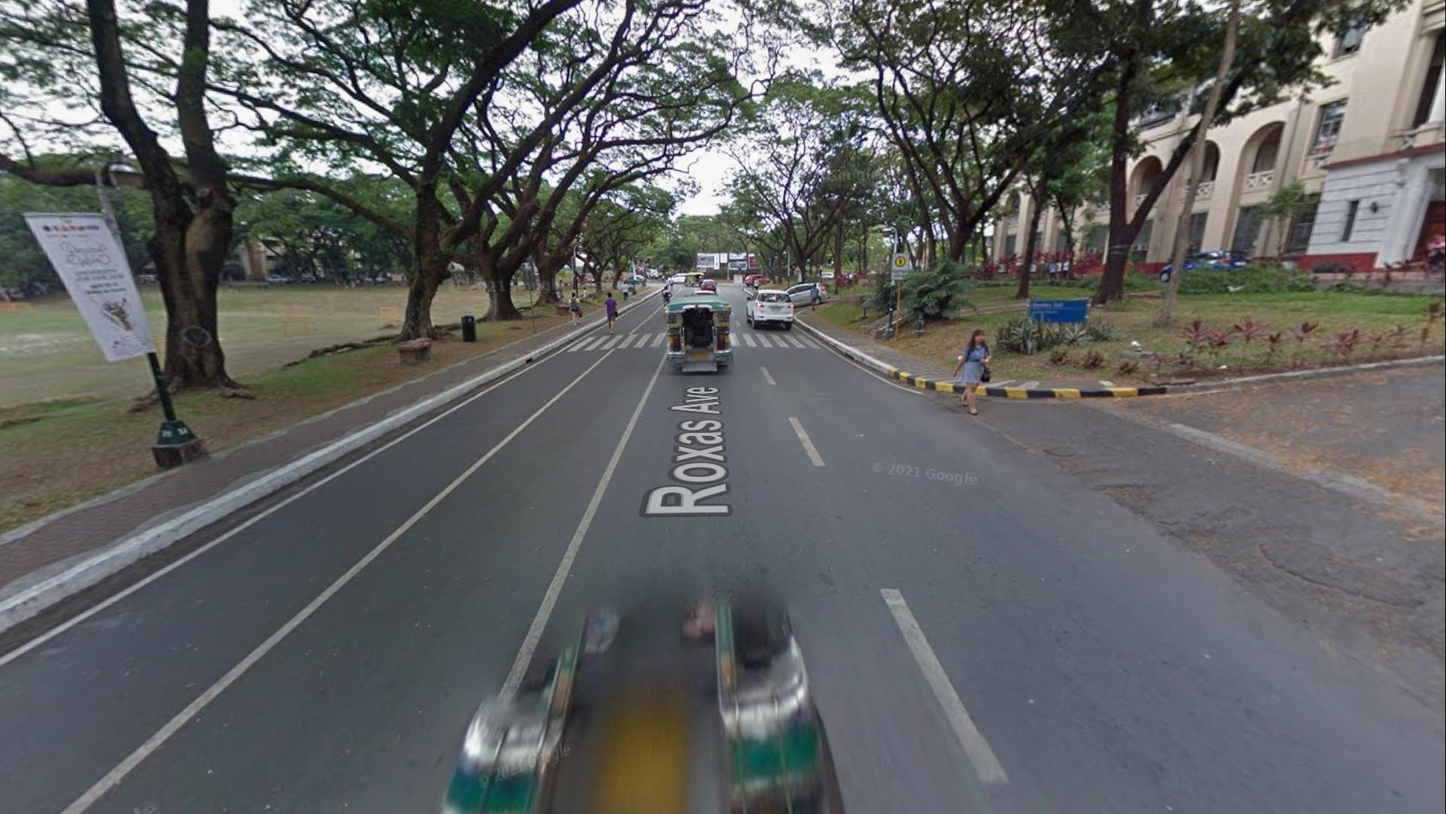pedestrian: (952, 328, 993, 416), (604, 291, 619, 335), (568, 292, 583, 327), (809, 283, 819, 312), (620, 280, 629, 302), (754, 277, 760, 293), (582, 286, 587, 302)
